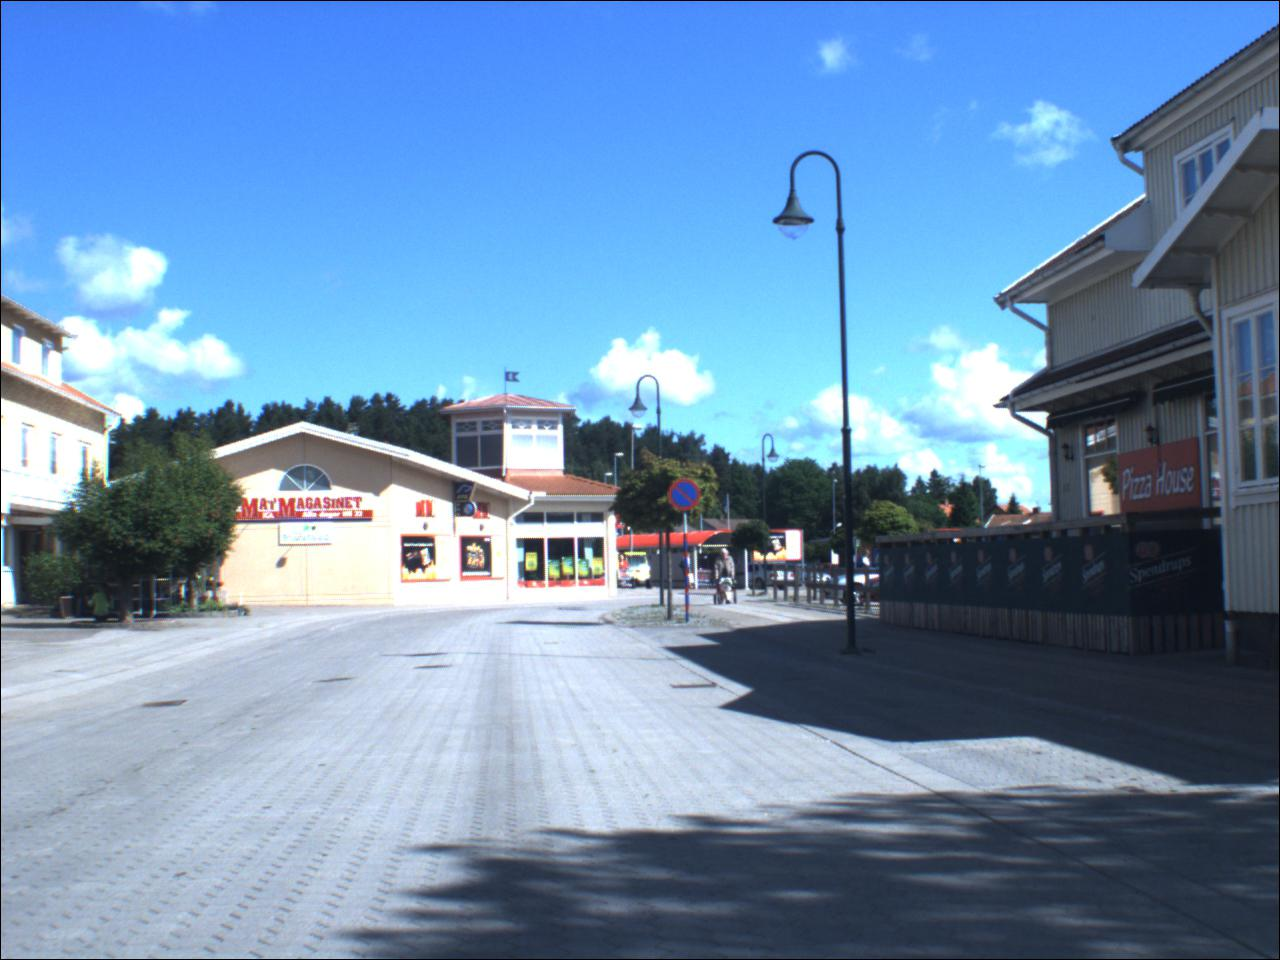NO_PARKING: (670, 477, 703, 513)
